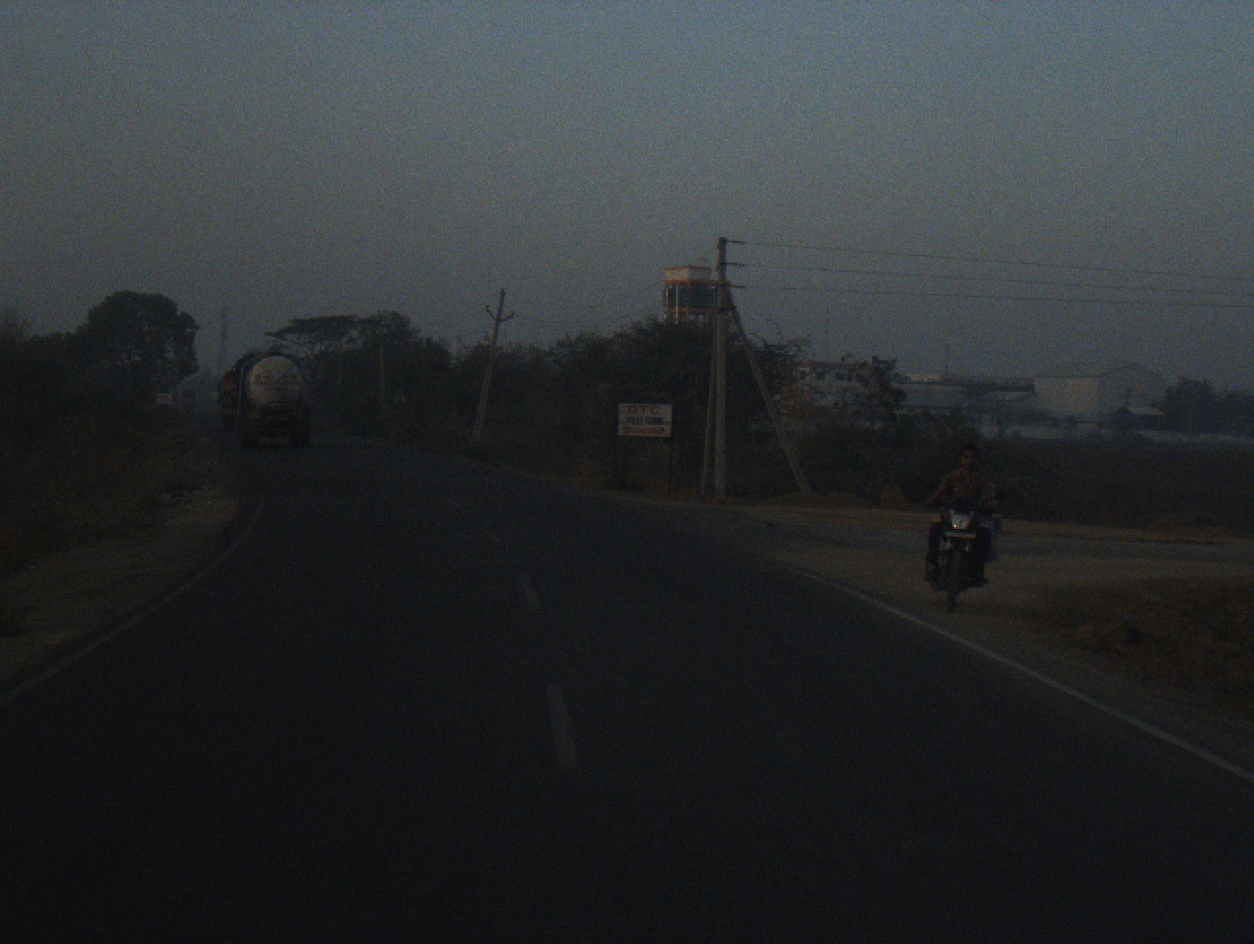motorcycle: (914, 478, 1009, 615)
rider: (920, 438, 1002, 592)
truck: (224, 347, 316, 451)
vehicle fallback: (213, 368, 244, 432)
